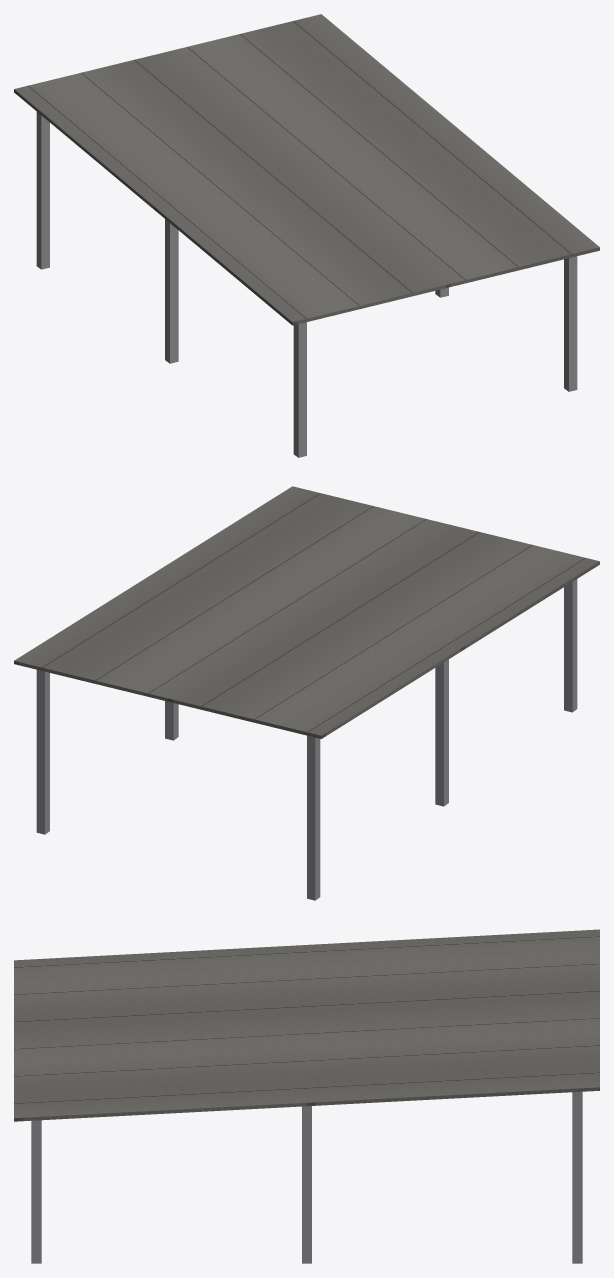
File: SM_Molo_Tendone_LOD2.fbx
3 renders of one model, top to bottom at view 1: azimuth 30°, elevation 25°; view 2: azimuth 150°, elevation 25°; view 3: azimuth 270°, elevation 25°, orthographic. The views are drawn at different scales.
Visible parts, largest first — view 1: SM_Molo_Tendone_LOD2; view 2: SM_Molo_Tendone_LOD2; view 3: SM_Molo_Tendone_LOD2.
Boxes of the visible parts, x1,y1,x2,y2 form: SM_Molo_Tendone_LOD2: (14, 14, 599, 457); SM_Molo_Tendone_LOD2: (14, 486, 599, 900); SM_Molo_Tendone_LOD2: (14, 929, 599, 1263).
Size of the model in its own units: 580 by 910 by 314.
1 material, 1 textured.
